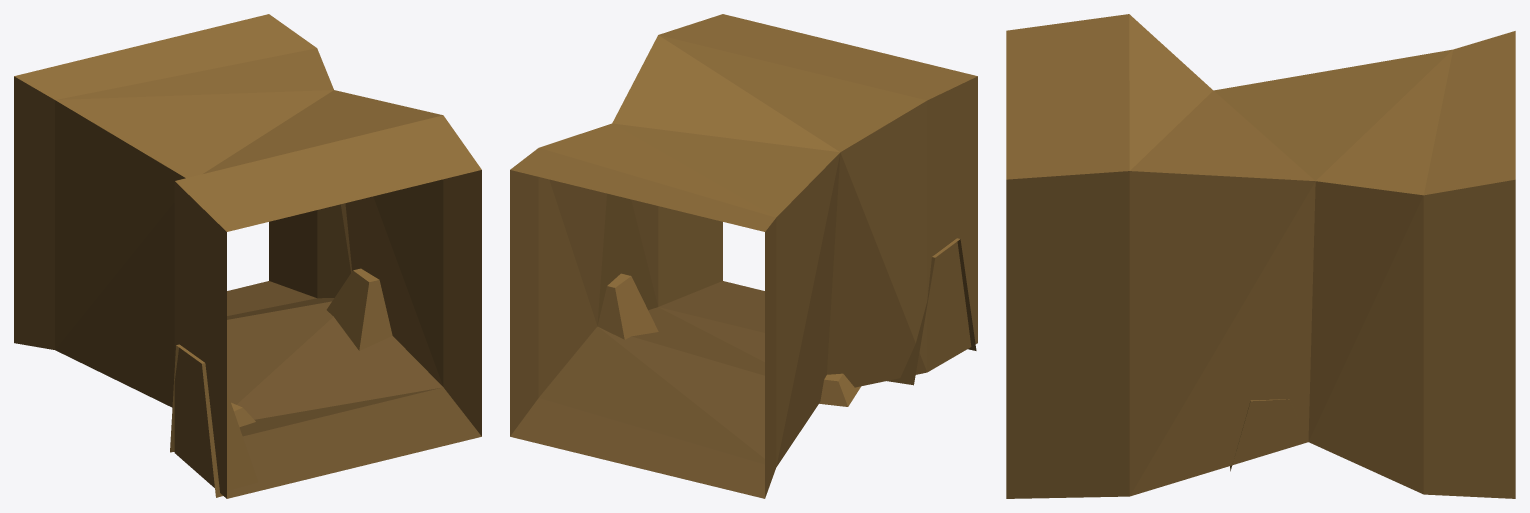
Rendered from SD_Env_Goblin_Tunnel_03.fbx.
The picture shows the model from 3 angles, left to right: view 1: azimuth 30°, elevation 25°; view 2: azimuth 150°, elevation 25°; view 3: azimuth 270°, elevation 25°; orthographic projection. The views are drawn at different scales.
Parts seen in each view (by area): view 1: SD_Env_Goblin_Tunnel_03; view 2: SD_Env_Goblin_Tunnel_03; view 3: SD_Env_Goblin_Tunnel_03.
Boxes of the visible parts, x1,y1,x2,y2 form: SD_Env_Goblin_Tunnel_03: (14, 14, 481, 498); SD_Env_Goblin_Tunnel_03: (510, 14, 977, 498); SD_Env_Goblin_Tunnel_03: (1006, 14, 1515, 498).
Bounding box in the file's own units: 3.7 × 3.71 × 5.
